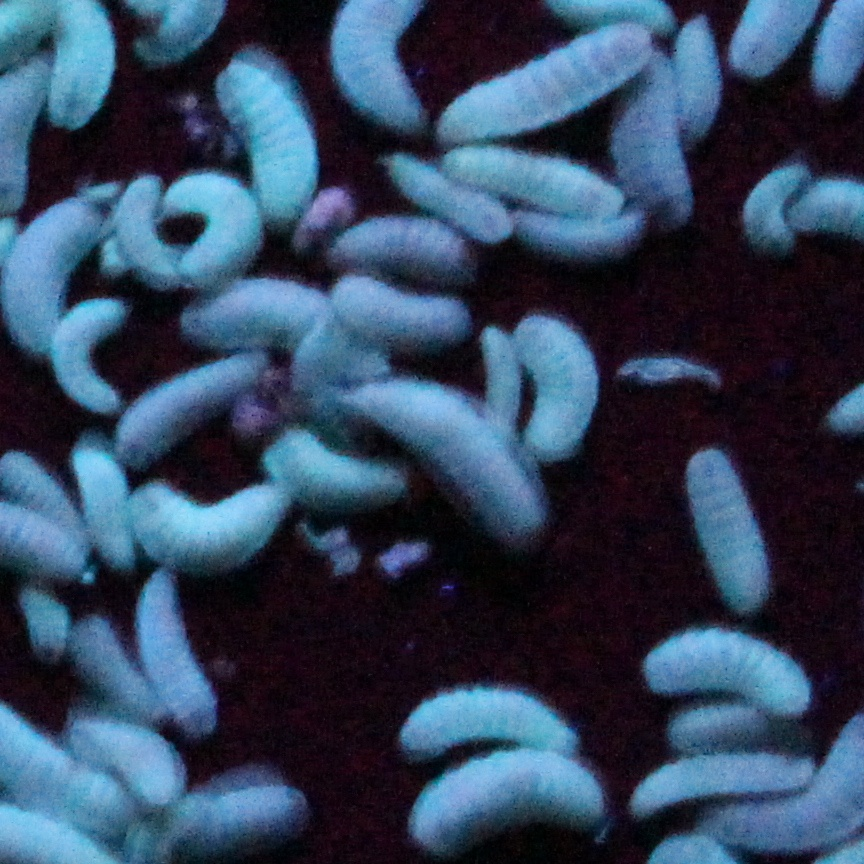larve: (364, 383, 539, 541), (449, 24, 645, 141), (407, 753, 610, 856), (627, 620, 810, 707), (440, 146, 630, 221), (216, 69, 318, 207), (681, 449, 769, 606), (395, 680, 583, 753), (508, 314, 597, 454), (143, 357, 259, 462), (132, 488, 287, 566), (137, 579, 219, 722), (149, 791, 313, 856), (272, 435, 413, 510), (395, 160, 514, 246), (337, 278, 469, 353), (63, 297, 143, 420), (630, 748, 813, 800), (162, 185, 266, 276), (66, 434, 140, 559), (327, 223, 482, 282), (184, 289, 335, 349), (672, 29, 728, 125), (112, 191, 172, 271), (742, 171, 794, 247)
